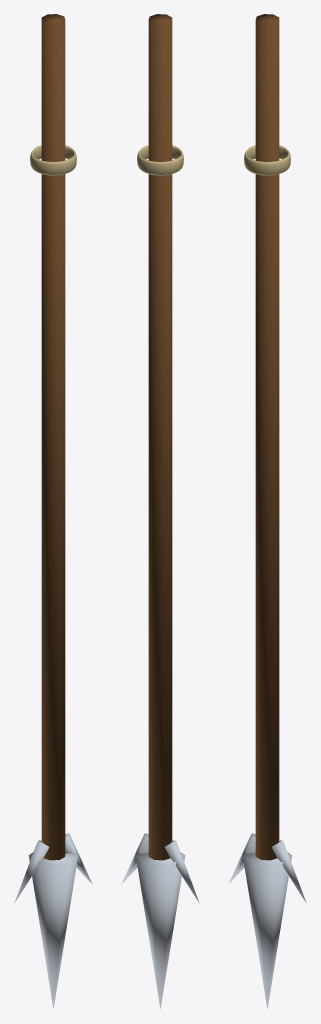
File: weapon_nautico_comum.glb
3 views of the same model, side by side, from view 1: azimuth 30°, elevation 25°; view 2: azimuth 150°, elevation 25°; view 3: azimuth 330°, elevation 25° (orthographic).
Visible parts, largest first — view 1: weapon_nautico_comum; view 2: weapon_nautico_comum; view 3: weapon_nautico_comum.
Boxes of the visible parts, box(x1,y1,x2,y2) form: weapon_nautico_comum: box(14, 14, 92, 1009); weapon_nautico_comum: box(121, 14, 199, 1009); weapon_nautico_comum: box(228, 14, 306, 1009).
Bounding box in the file's own units: 0.2934 × 3.52 × 0.16.
